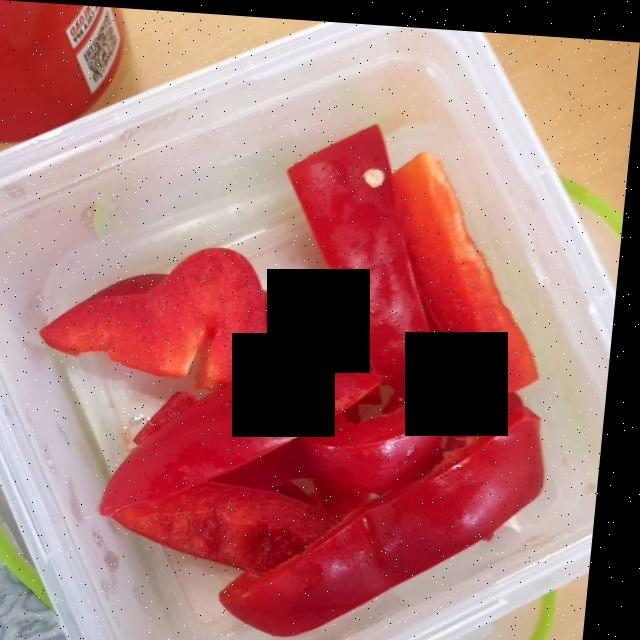bell-pepper: (63, 135, 550, 614)
